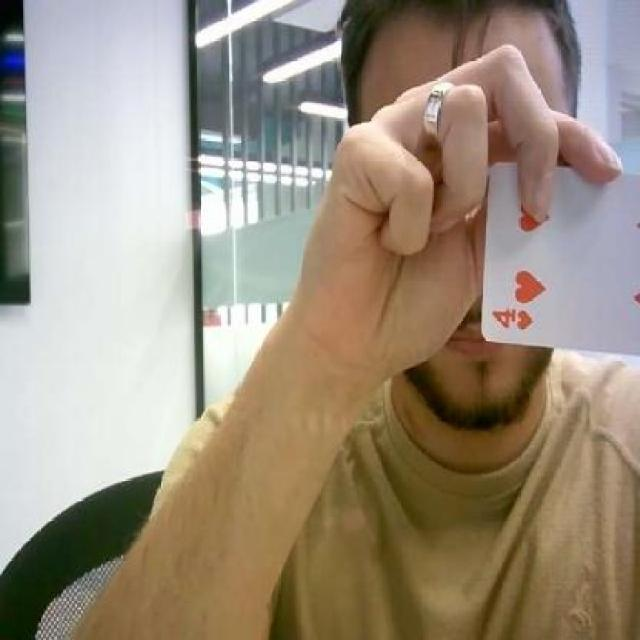4H: (489, 306, 534, 331)
